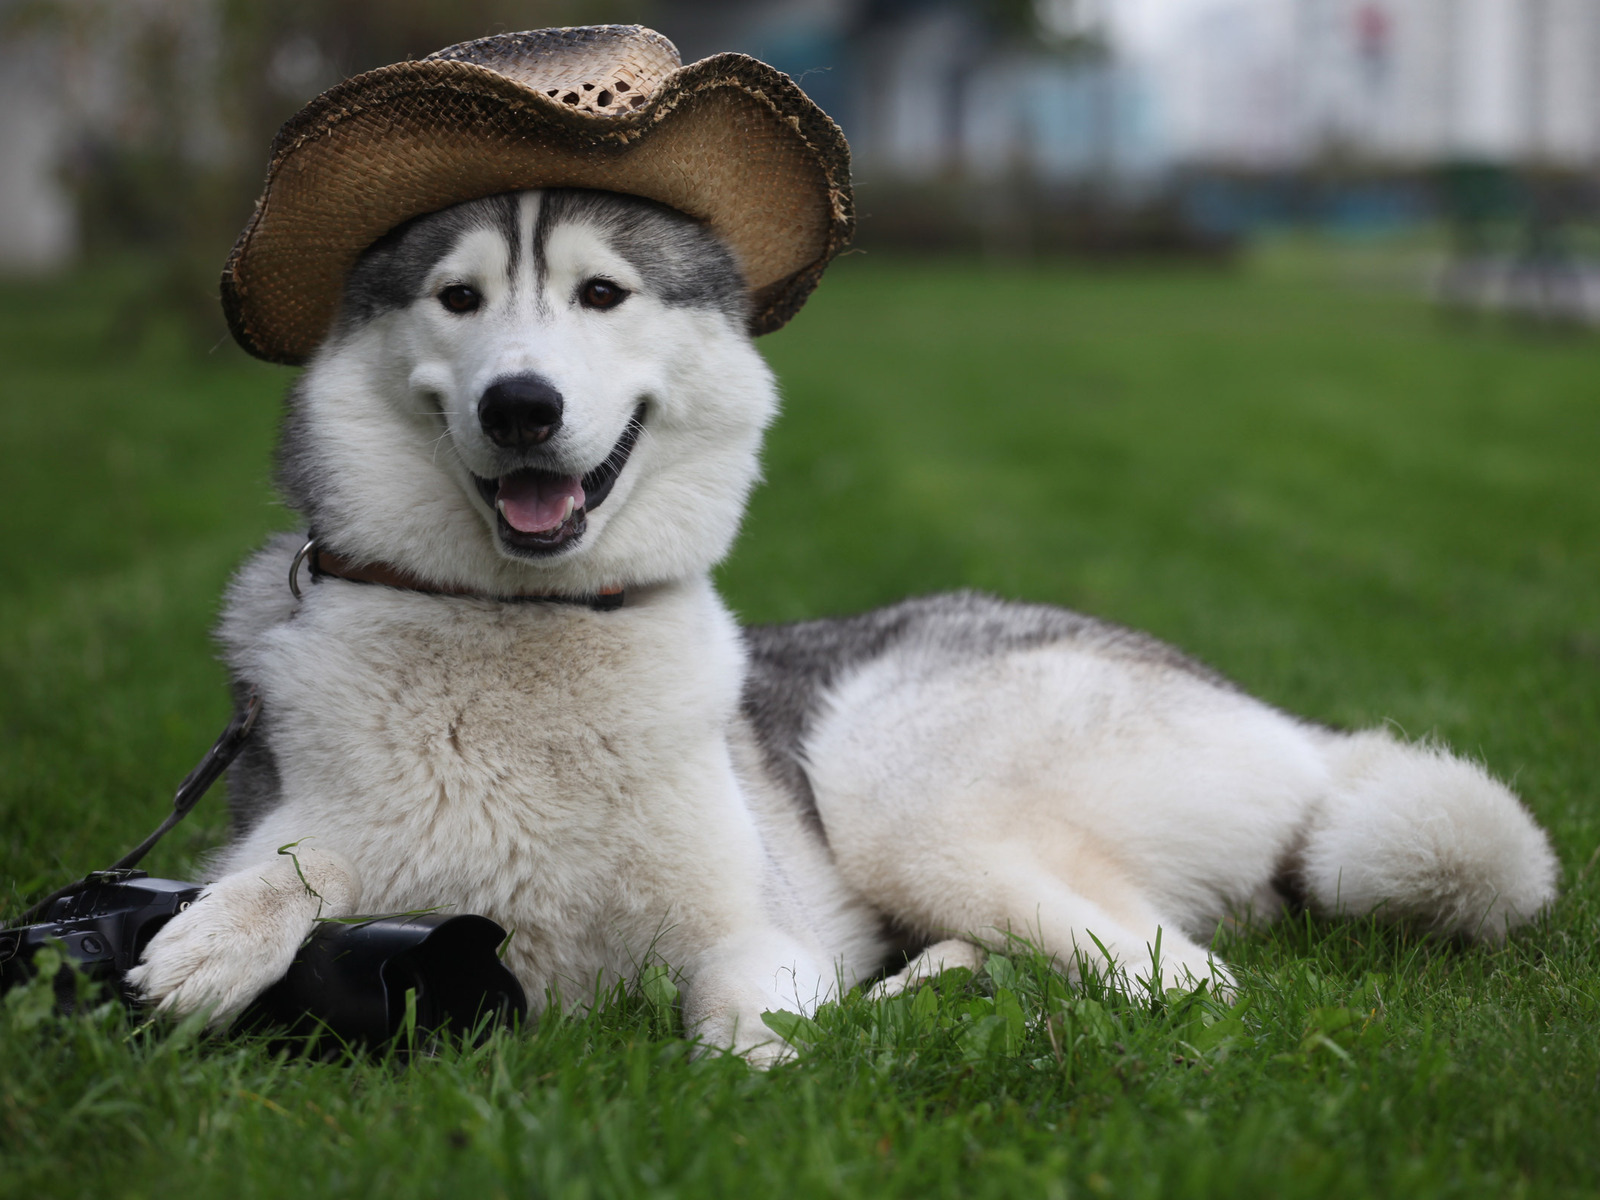husky: (213, 163, 824, 1040)
